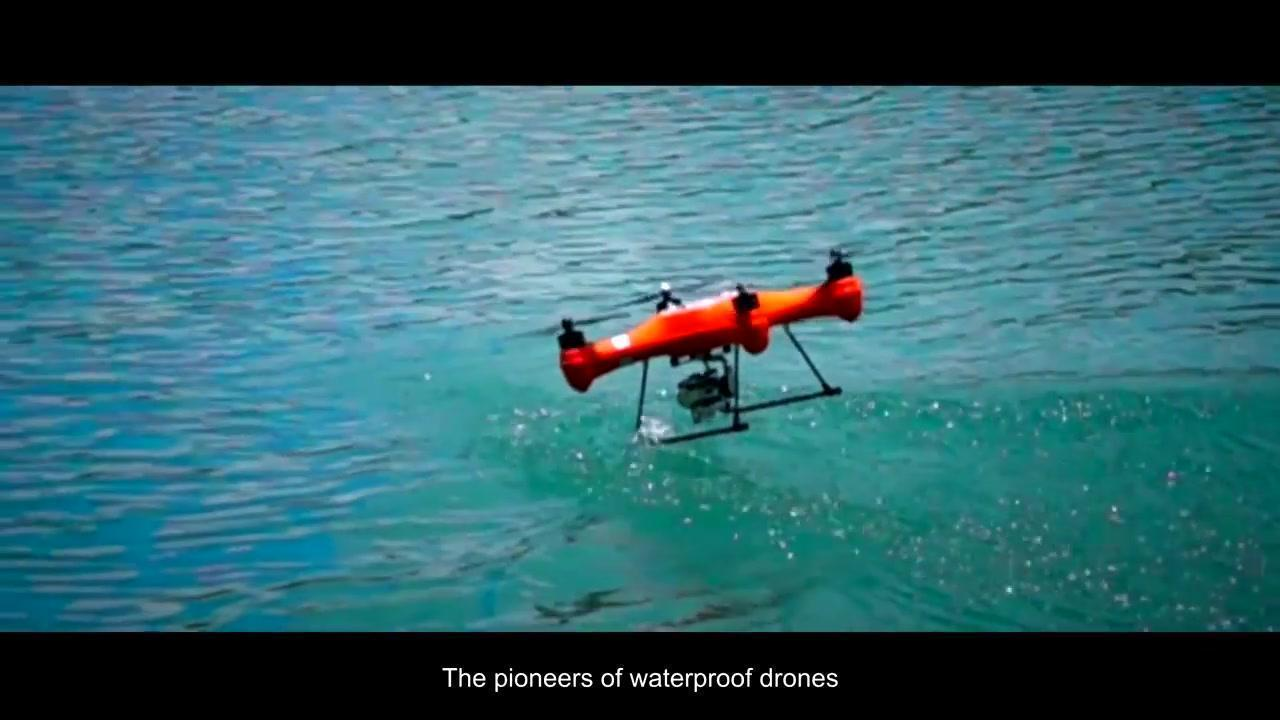UAV: (559, 251, 863, 447)
